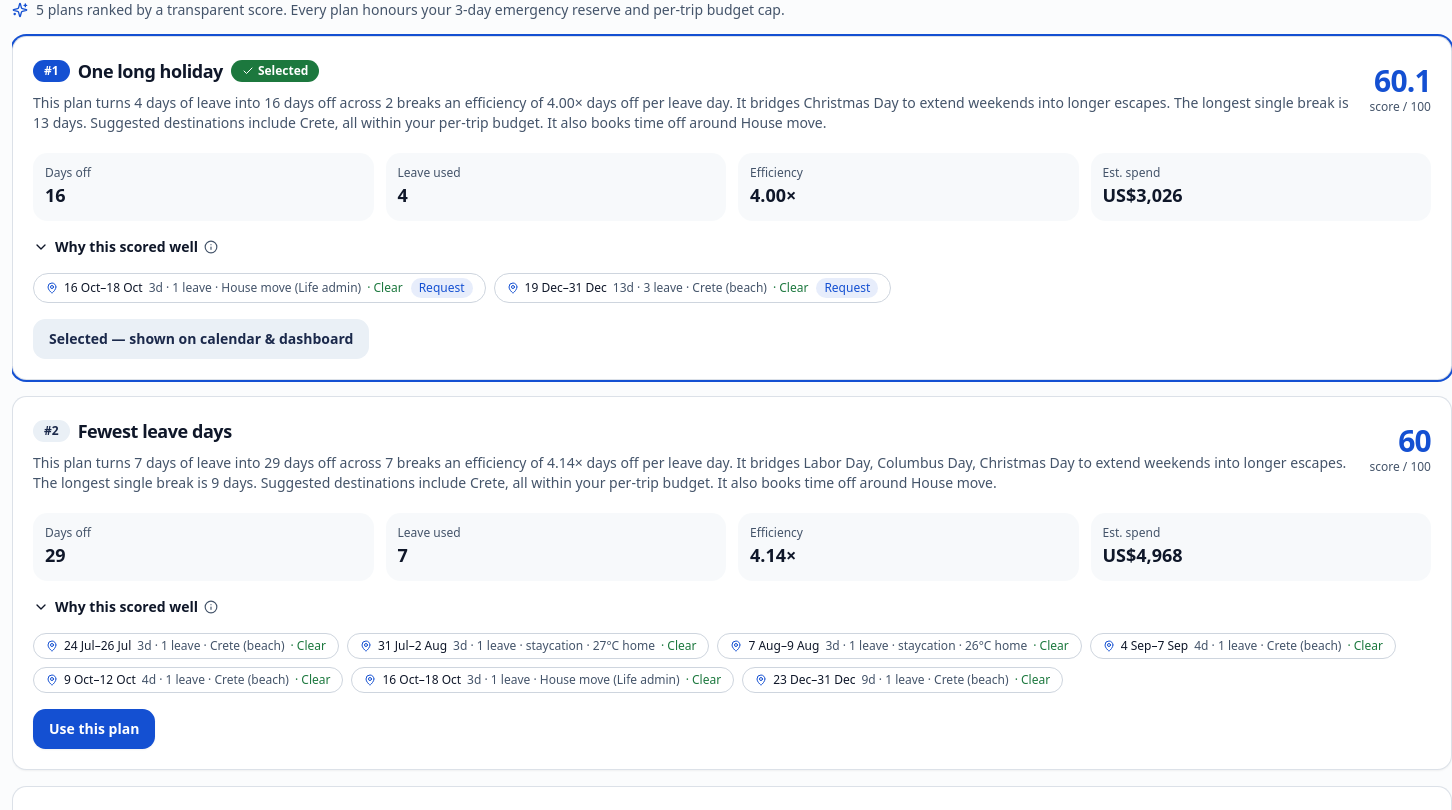
Test case: one-click request from a plan break › stages the break dates and navigates to the group tab
What coordinates should you click on to do the following:
click the 1st button "Request"
I would click on:
 (442, 288)
Its box is [411,278,473,298].
(page scrolled)
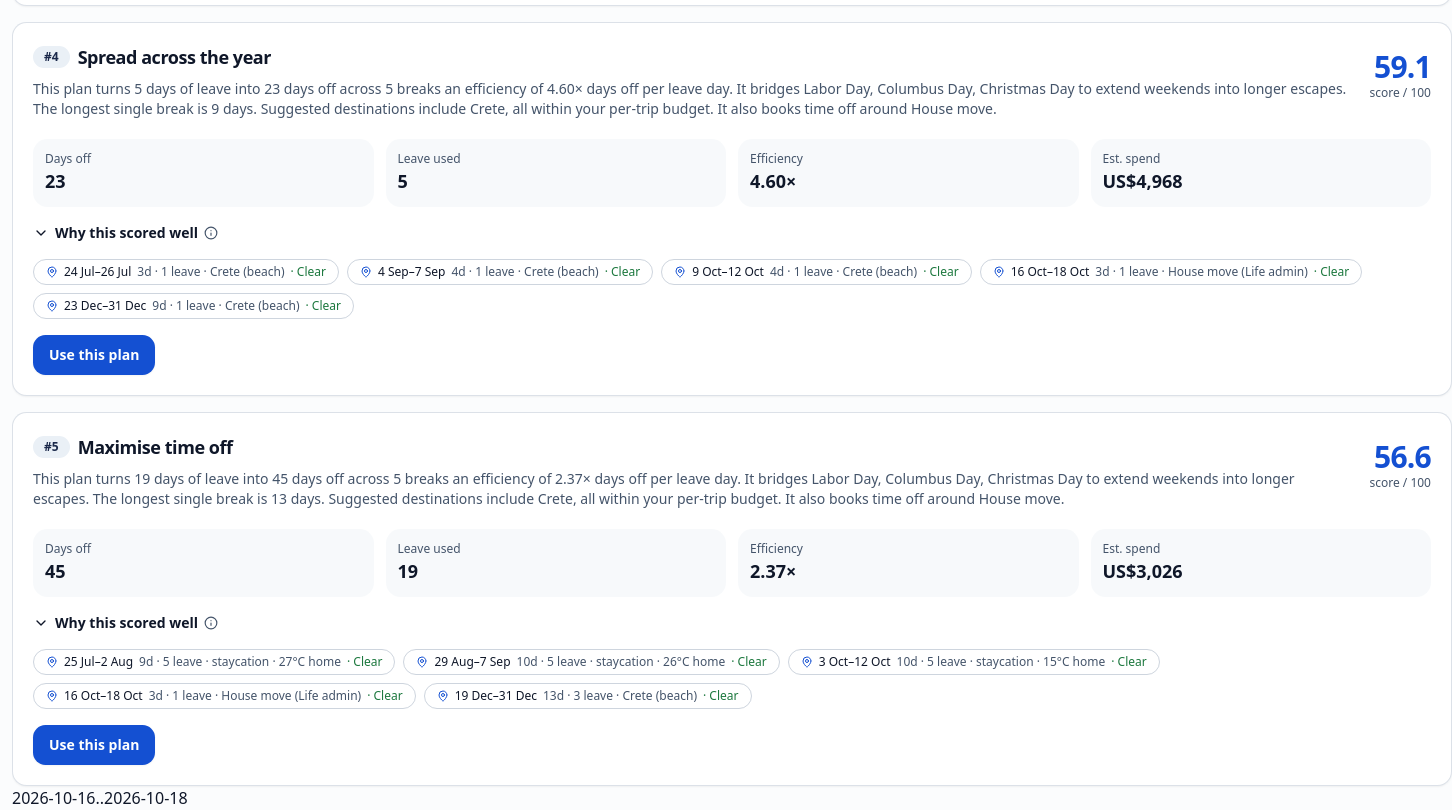
Result: the text with test id "draft" reads "2026-10-16..2026-10-18" at [12,787,188,809]
